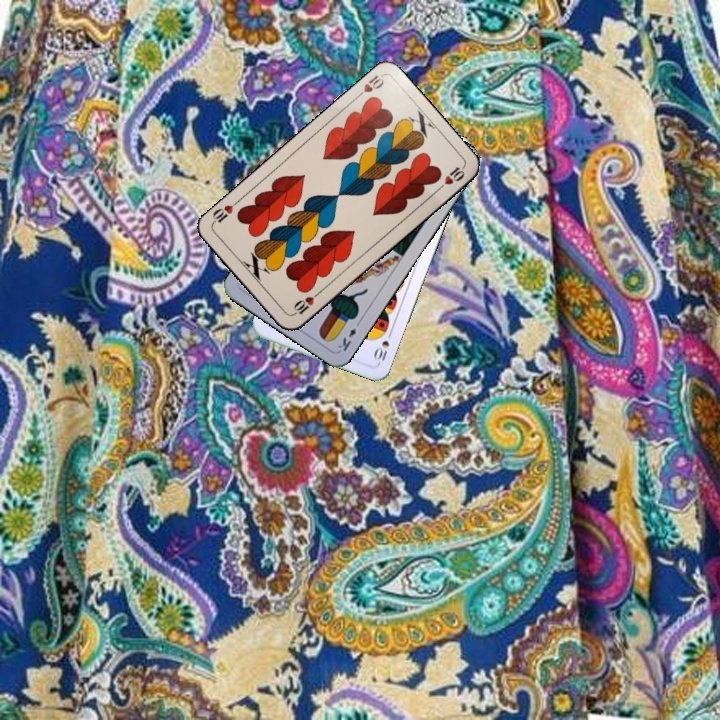EK: (334, 316, 364, 354)
H10: (351, 71, 387, 102), (289, 287, 323, 318)
S10: (370, 327, 395, 366)
